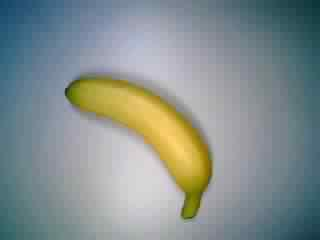banana: (61, 68, 213, 222)
